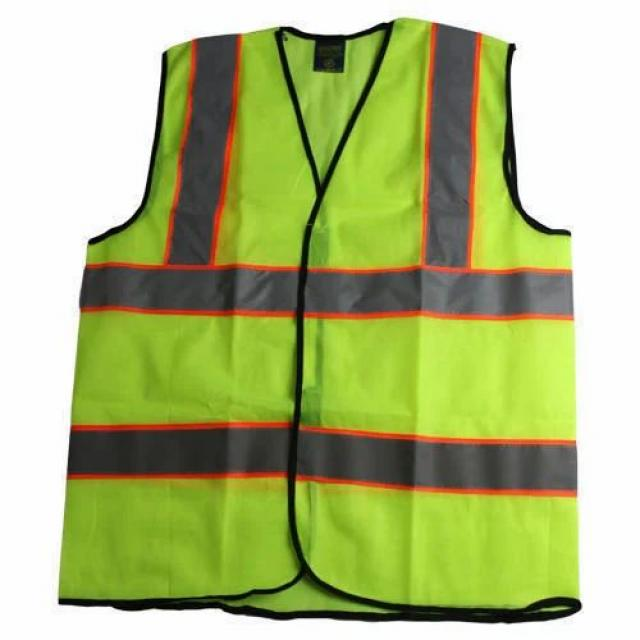Reflective-Jacket: (26, 2, 633, 640)
